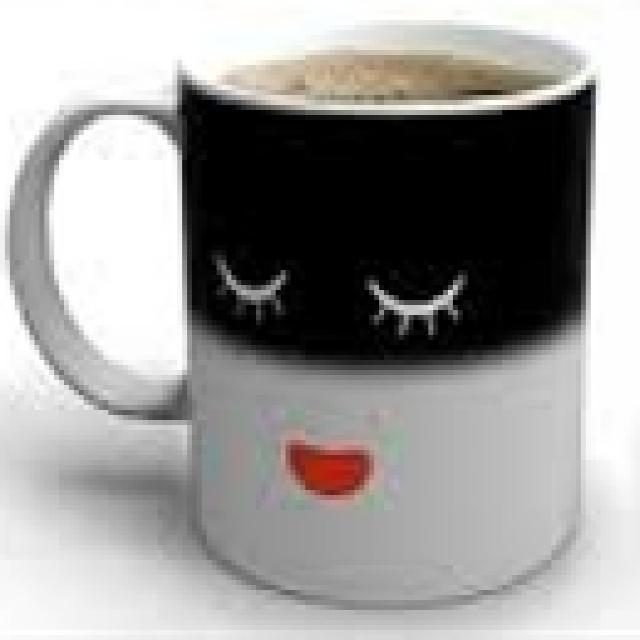taza: (1, 16, 600, 608)
